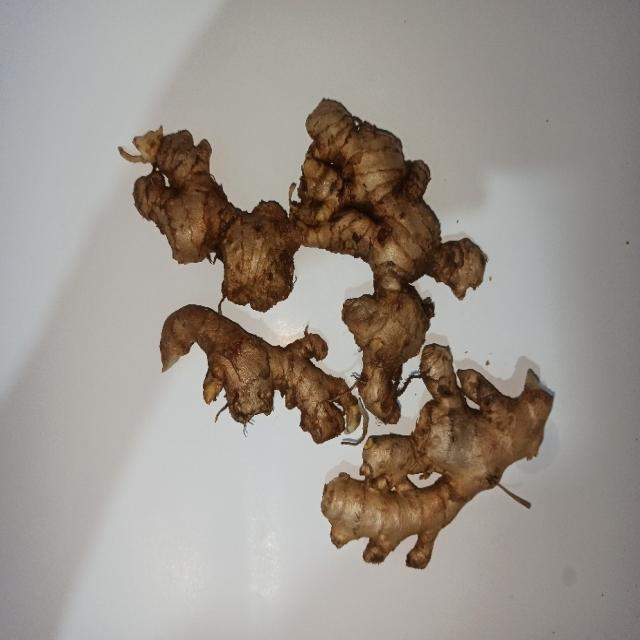ginger: (303, 104, 485, 342), (322, 377, 550, 558), (166, 303, 351, 442), (138, 138, 290, 306)
